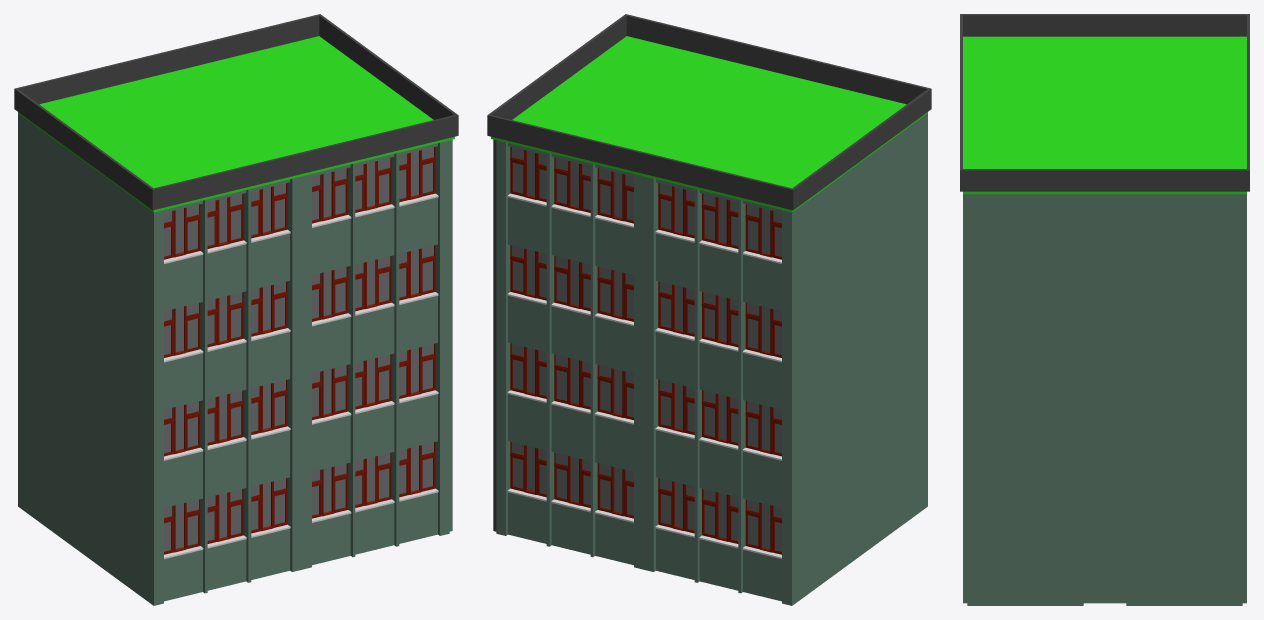
Rendered from SM_Building_5.fbx.
The picture shows the model from 3 angles, left to right: view 1: azimuth 30°, elevation 25°; view 2: azimuth 150°, elevation 25°; view 3: azimuth 270°, elevation 25°; orthographic projection. The views are drawn at different scales.
Visible parts, largest first — view 1: Plane.023; view 2: Plane.023; view 3: Plane.023.
Part boxes in pixels (<box>): Plane.023: <box>14,14,458,605</box>; Plane.023: <box>487,14,931,605</box>; Plane.023: <box>960,14,1249,605</box>.
Size of the model in its own units: 1048 by 1366 by 821.
